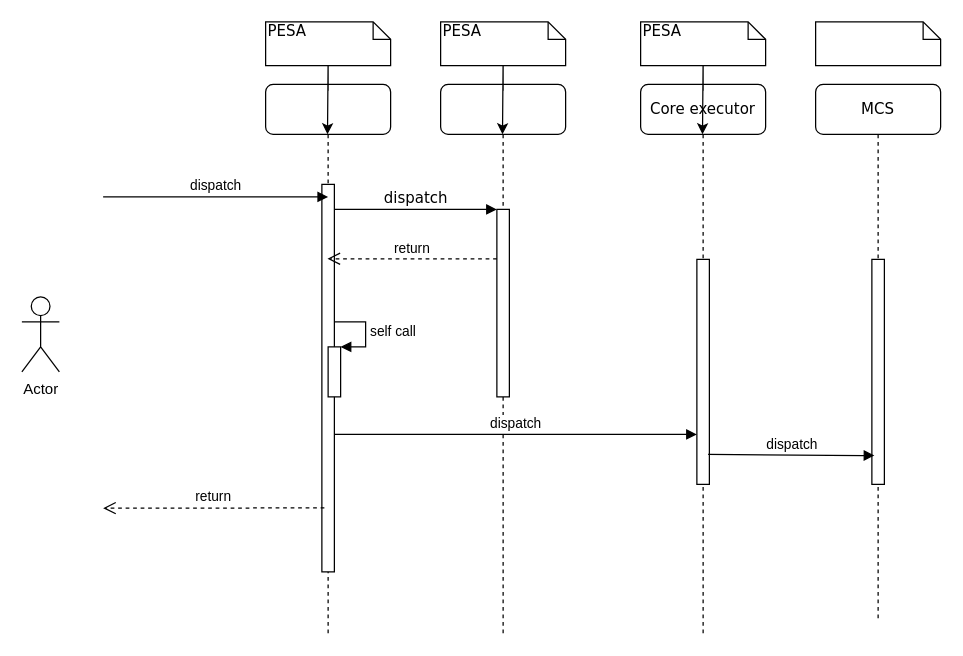
Some shapes in this 963 by 656 pixel diagram are drawn without their labels. The centre of each missing label's shape, as x and y in pixels:
"AVE" goes at [877,43].
"ClientManager" goes at [327,358].
"ServerManager" goes at [502,358].
